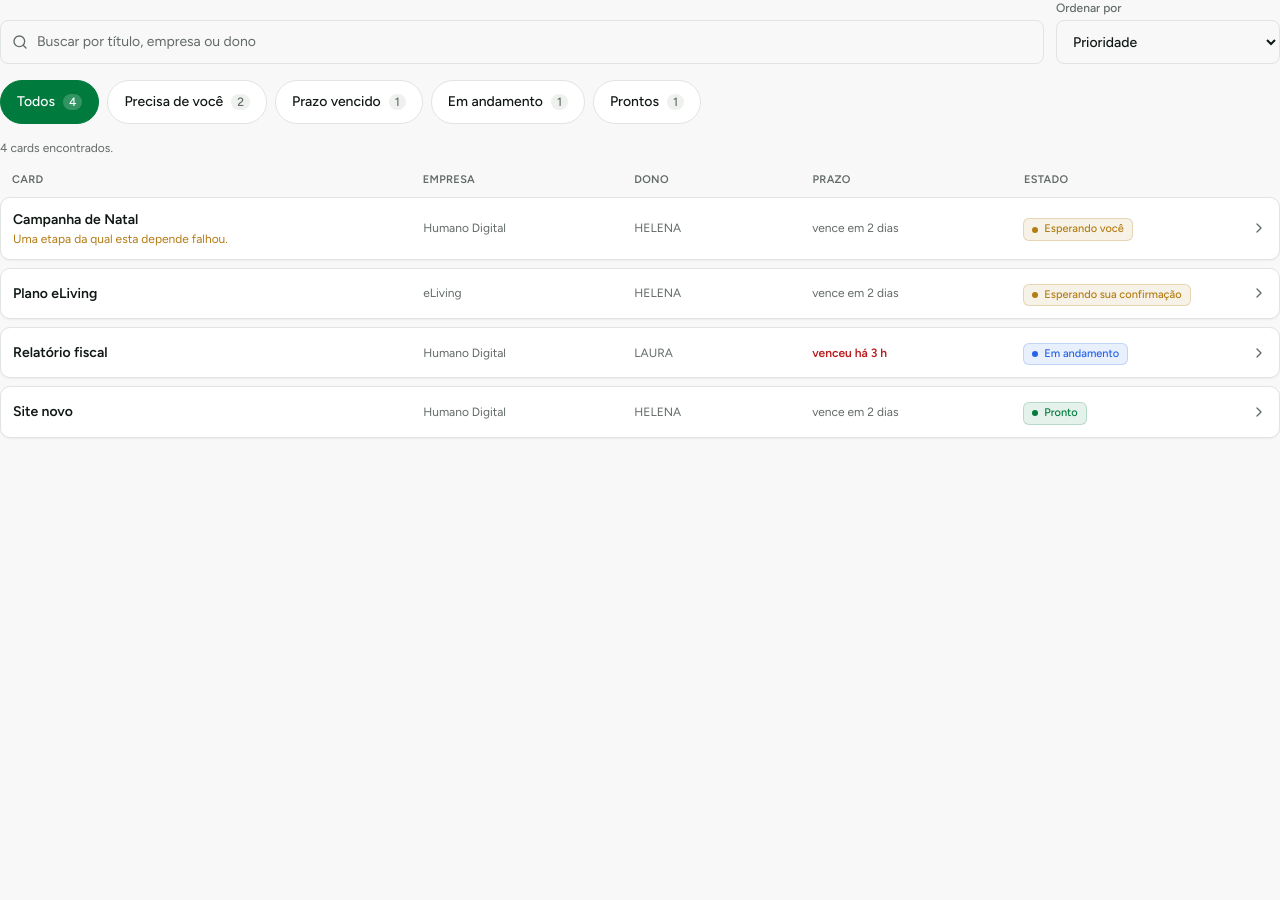
Test: navega entre anterior e próximo dentro da lista filtrada
The image size is (1280, 900).
Click the button "Precisa de você 2": [187, 102] box 108,80 -> 267,124
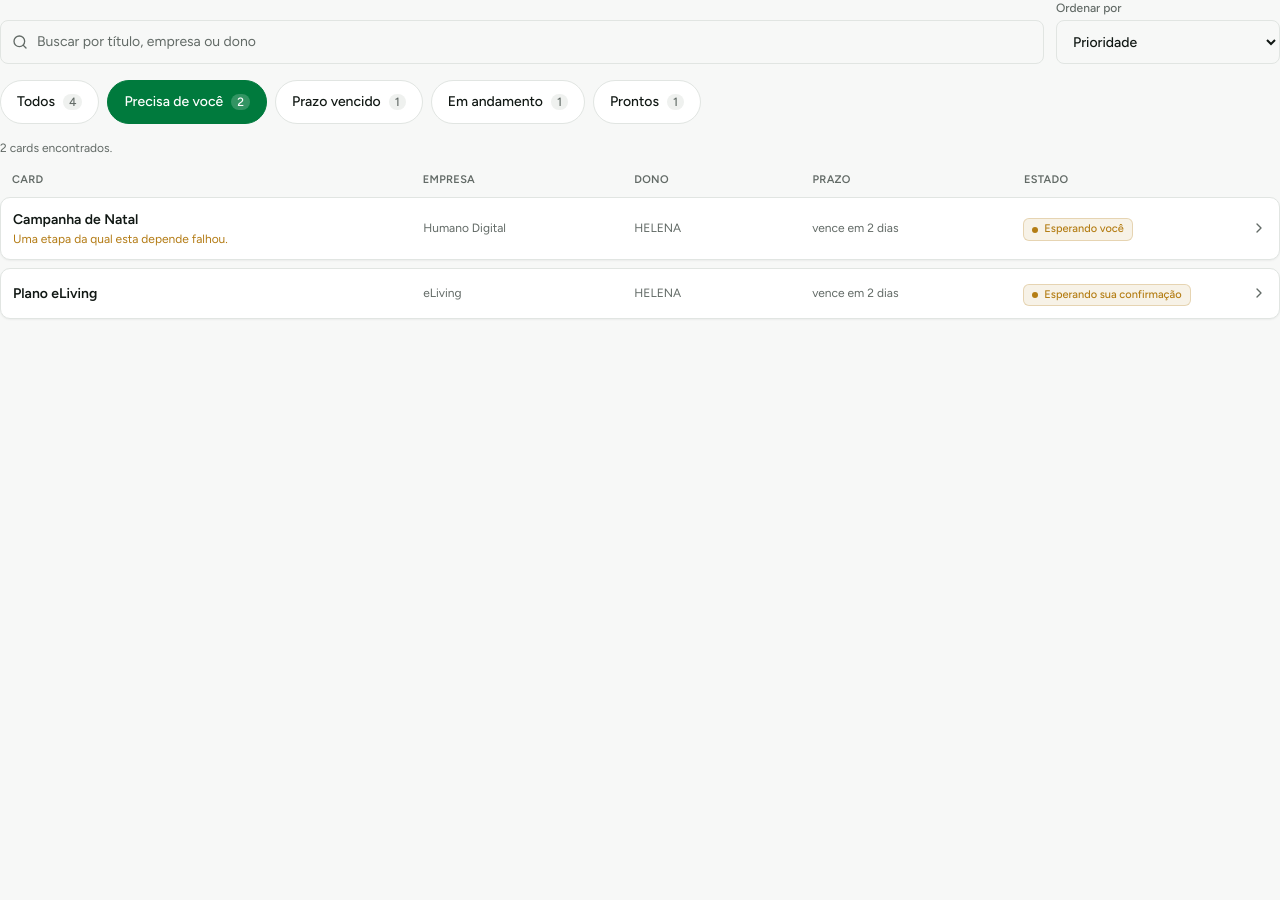
Click the button "Campanha de Natal": [640, 228] box 0,196 -> 1279,260
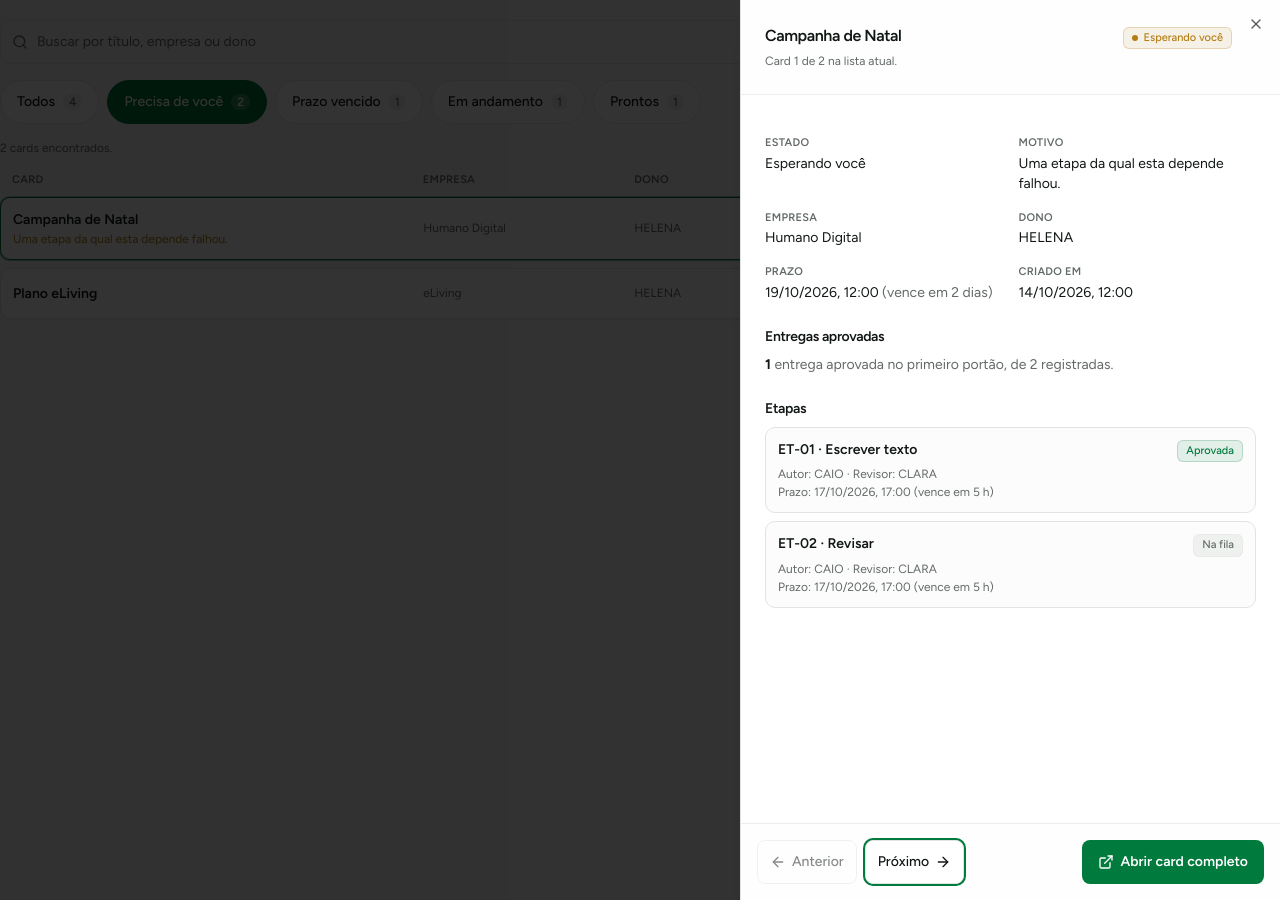
Expected: the button with aria-label "Card anterior" is disabled, 757,840 -> 857,884
Expected: the dialog shows "Card 1 de 2", 765,54 -> 897,68
Click the button with aria-label "Próximo card": [914, 862] box 865,840 -> 964,884
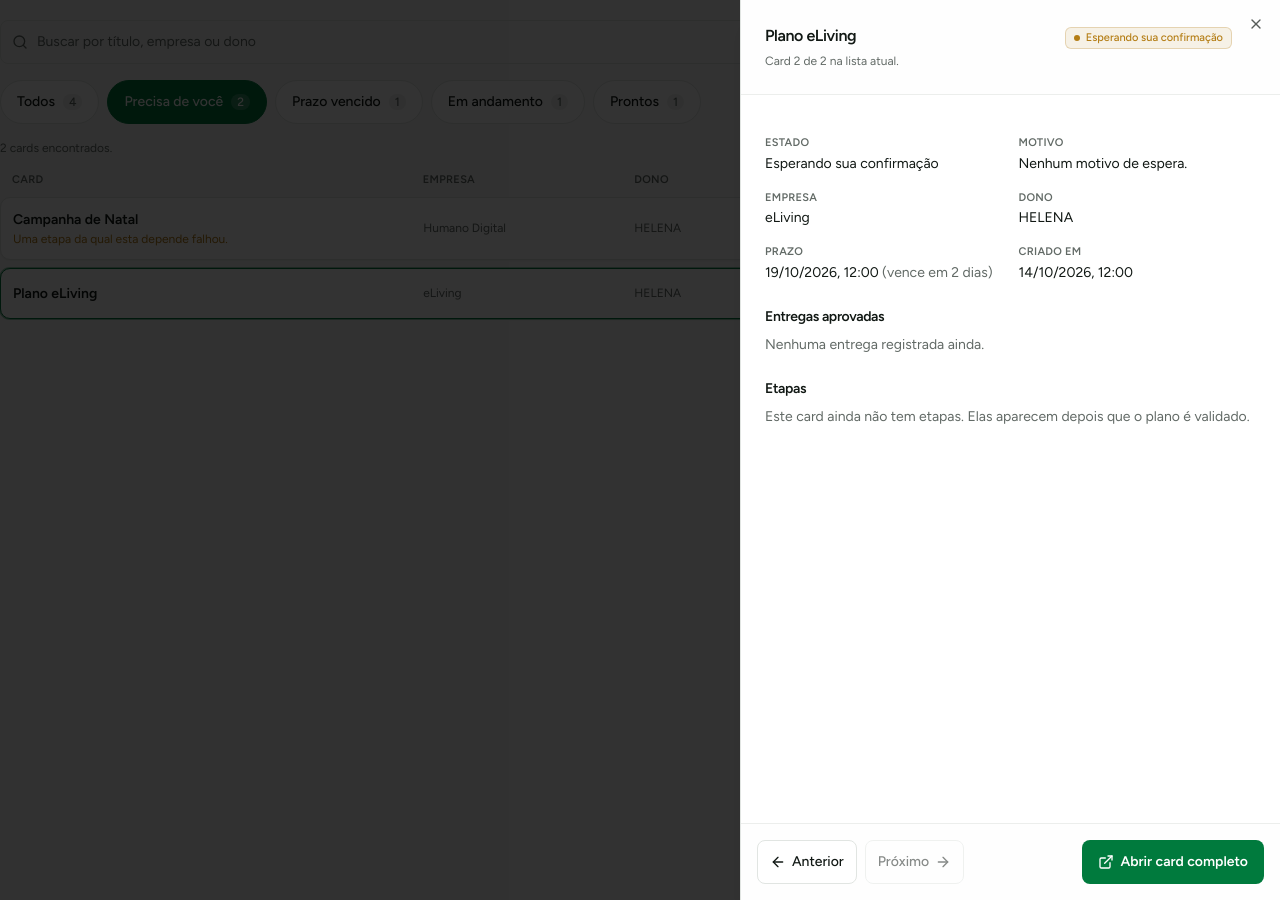
Expected: the heading "Plano eLiving" is shown, 765,26 -> 856,45
Expected: the dialog shows "Card 2 de 2", 765,54 -> 899,68
Expected: the button with aria-label "Próximo card" is disabled, 865,840 -> 964,884
Click the button with aria-label "Card anterior": [807, 862] box 757,840 -> 857,884
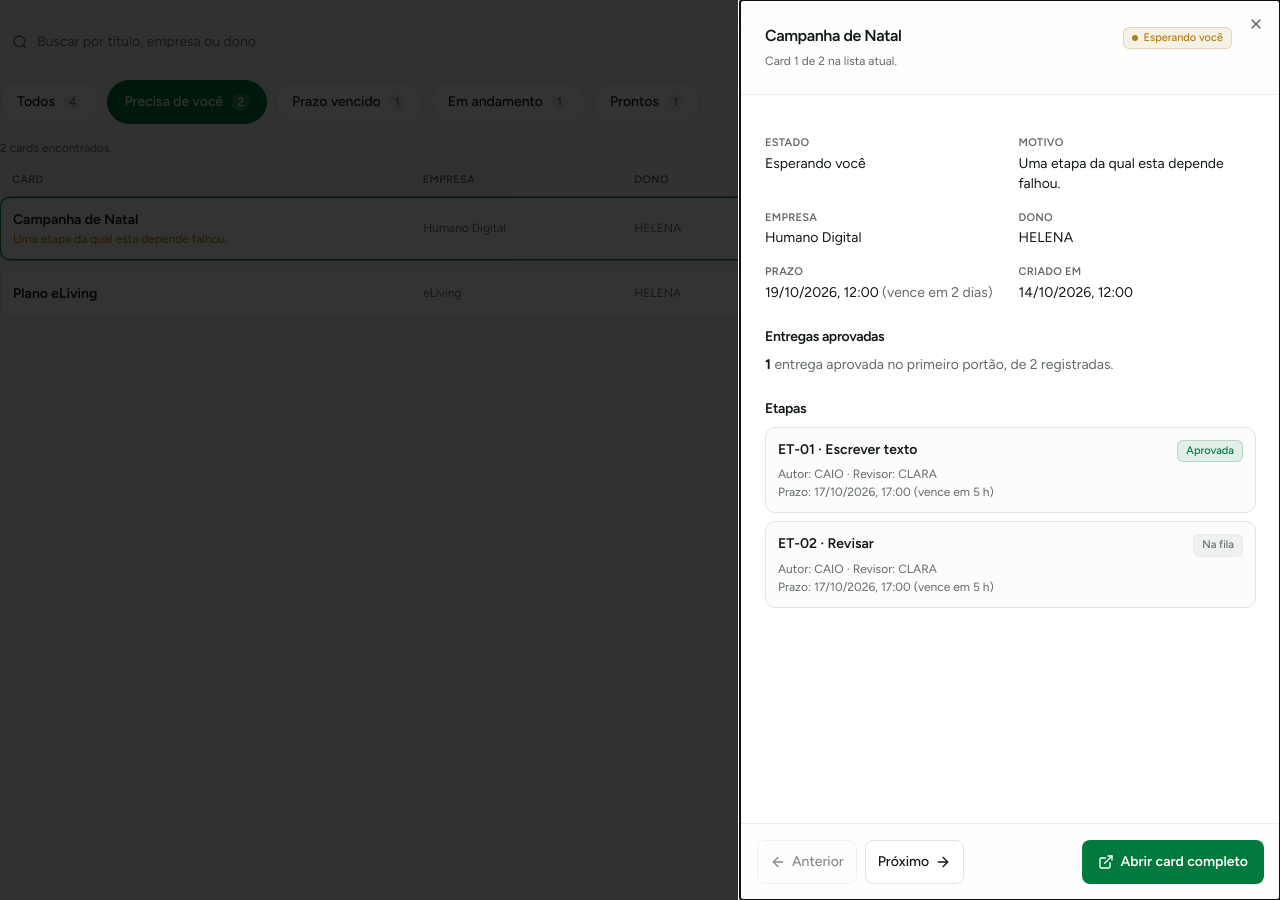
Expected: the heading "Campanha de Natal" is shown, 765,24 -> 902,48
